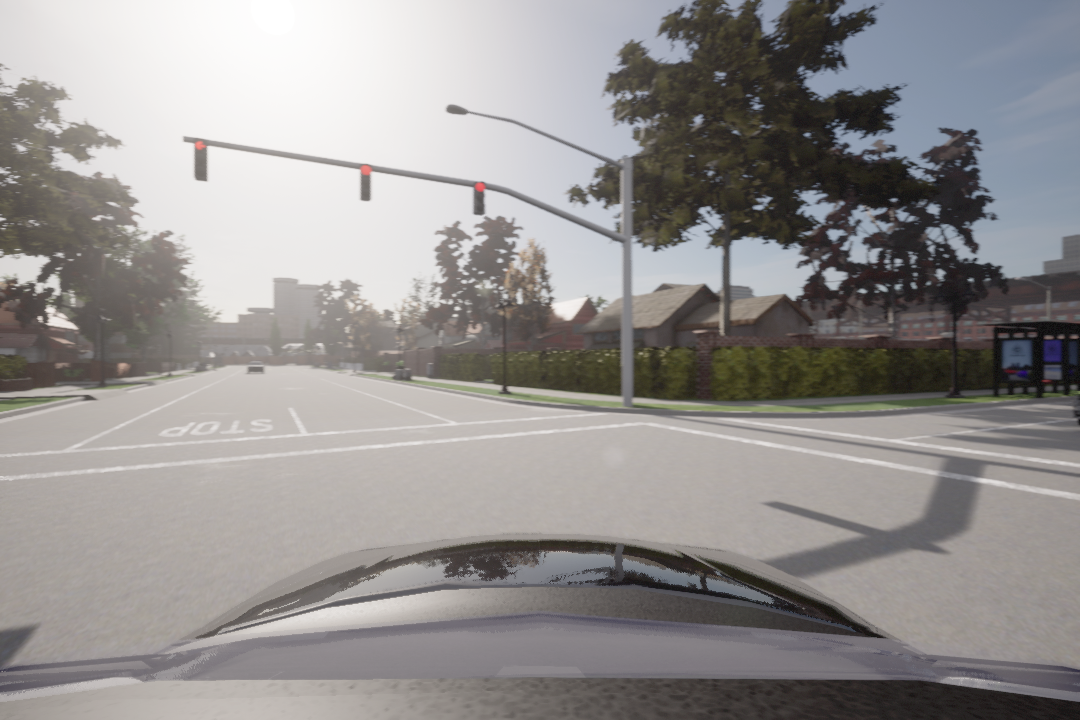TrafficLight: (191, 138, 209, 184), (358, 164, 371, 204), (473, 182, 487, 218)
